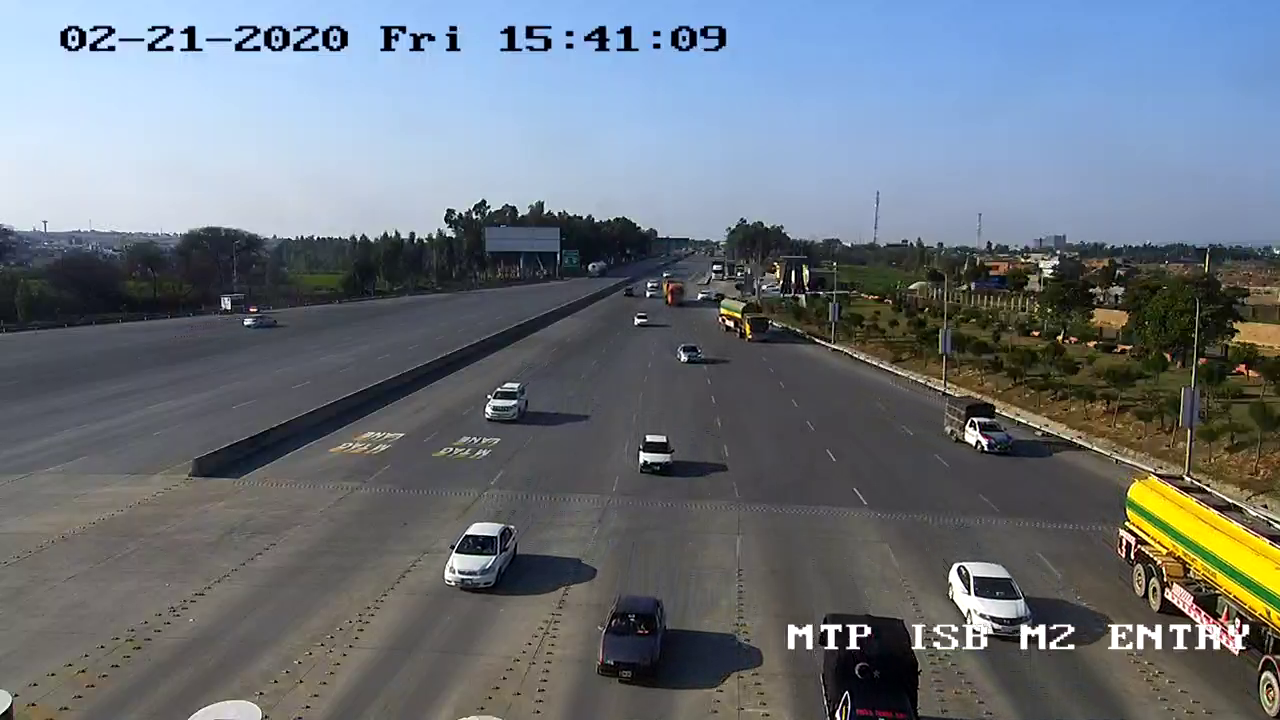f1: (590, 585, 677, 686), (439, 512, 523, 602), (626, 414, 686, 484), (475, 372, 534, 432)
